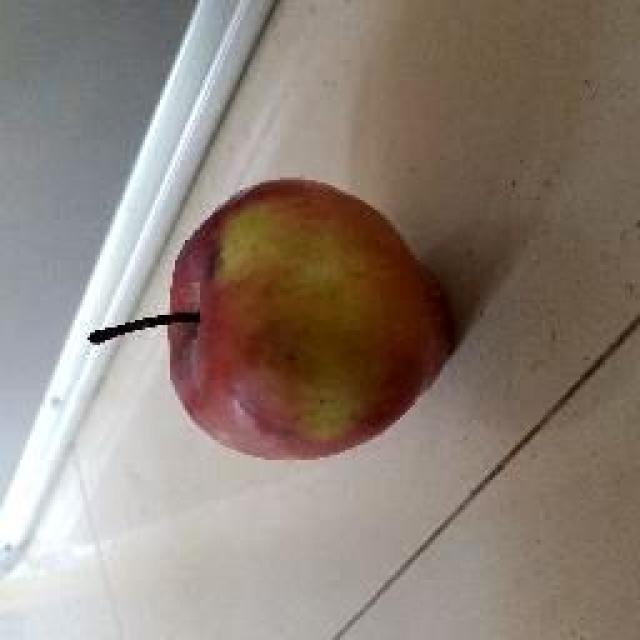Good_Apple: (90, 178, 455, 465)
